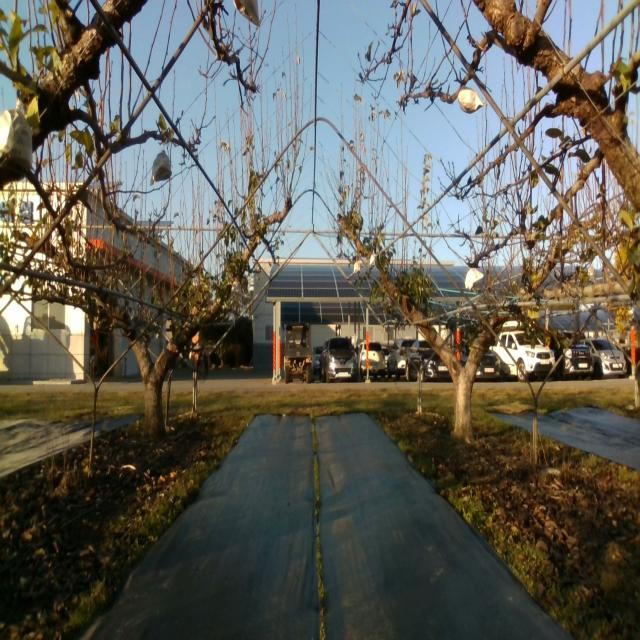pearbags: (0, 109, 33, 169), (149, 147, 172, 186), (458, 85, 484, 114), (465, 268, 484, 290)
